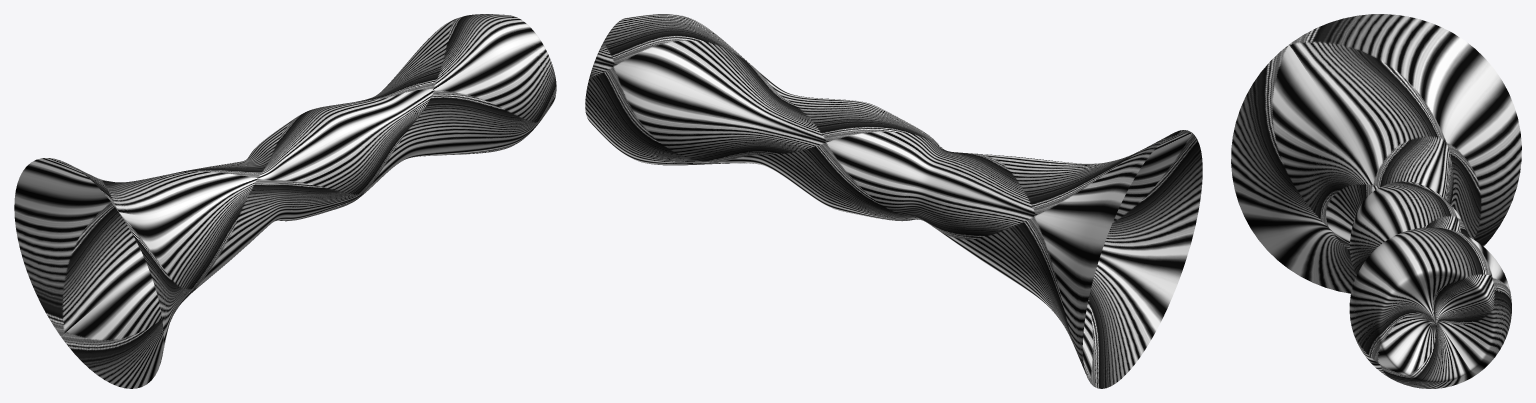
File: tunnel.fbx
3 renders of one model, left to right at view 1: azimuth 30°, elevation 25°; view 2: azimuth 150°, elevation 25°; view 3: azimuth 270°, elevation 25°, orthographic. The views are drawn at different scales.
Parts seen in each view (by area): view 1: r.0278; view 2: r.0278; view 3: r.0278.
Part boxes in pixels (x1,y1,x2,y2): r.0278: (14,14,556,388); r.0278: (585,14,1202,388); r.0278: (1231,14,1521,388).
Size of the model in its own units: 2.85 by 1.25 by 1.36.
Materials: 1 (1 with a texture image).
